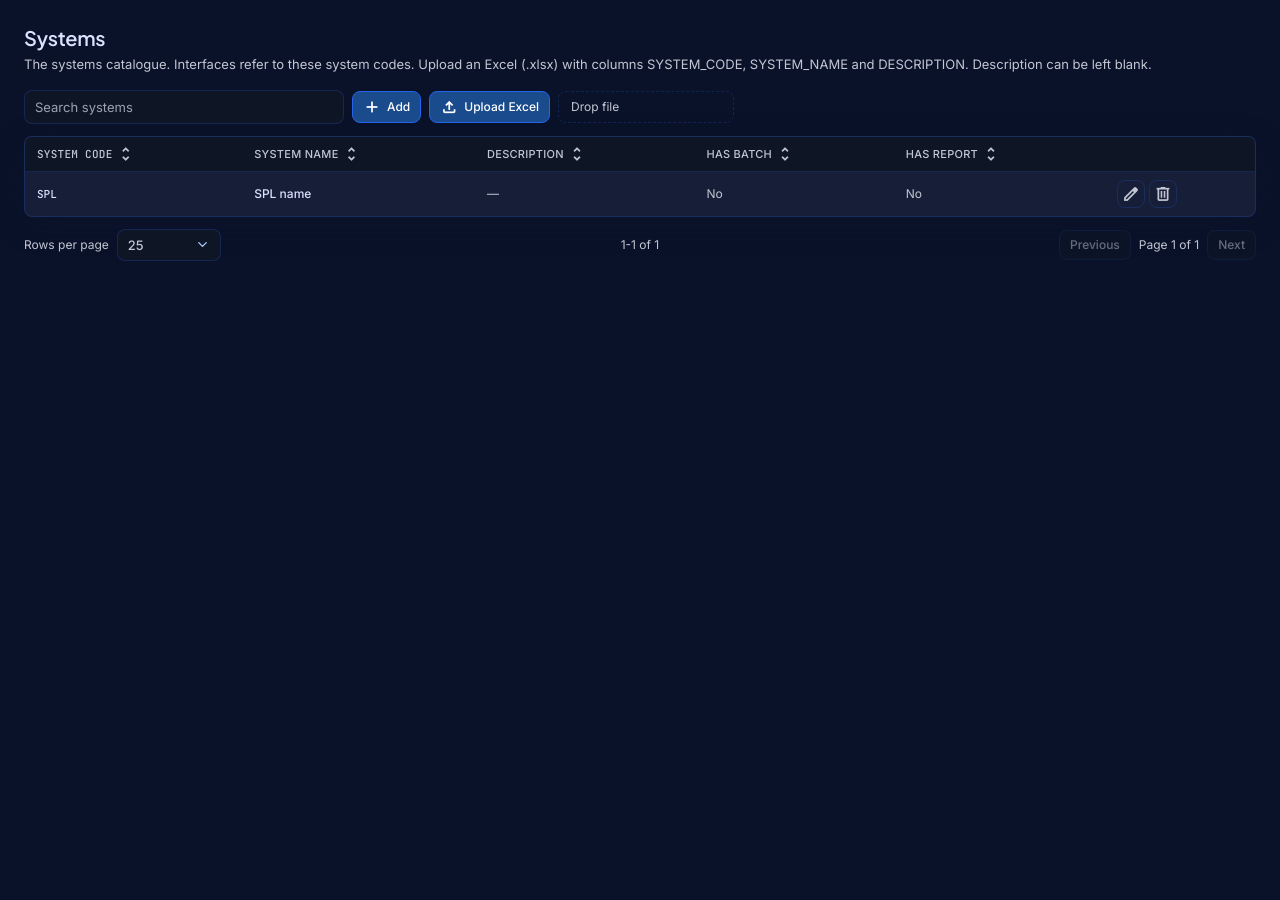
Scenario: edits a system without letting the code change
This screenshot has width=1280, height=900.
Check: the text "SPL name" is shown, box [242,172,475,216]
Click the button named "Edit SPL": click(1131, 194) [1117,180,1145,208]
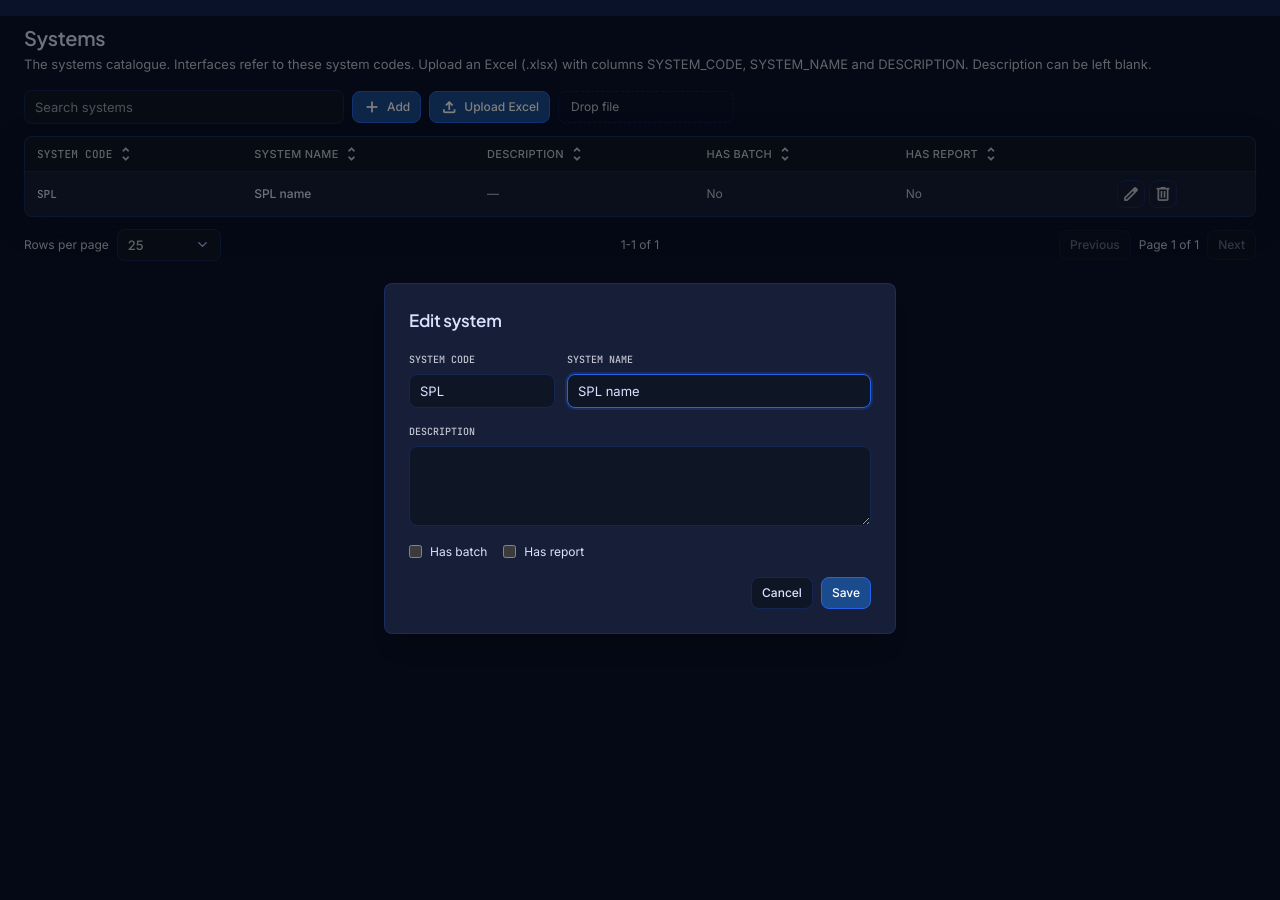
Replace the text in the field labelled "System name" with "Renamed": (719, 390) [567,374,871,408]
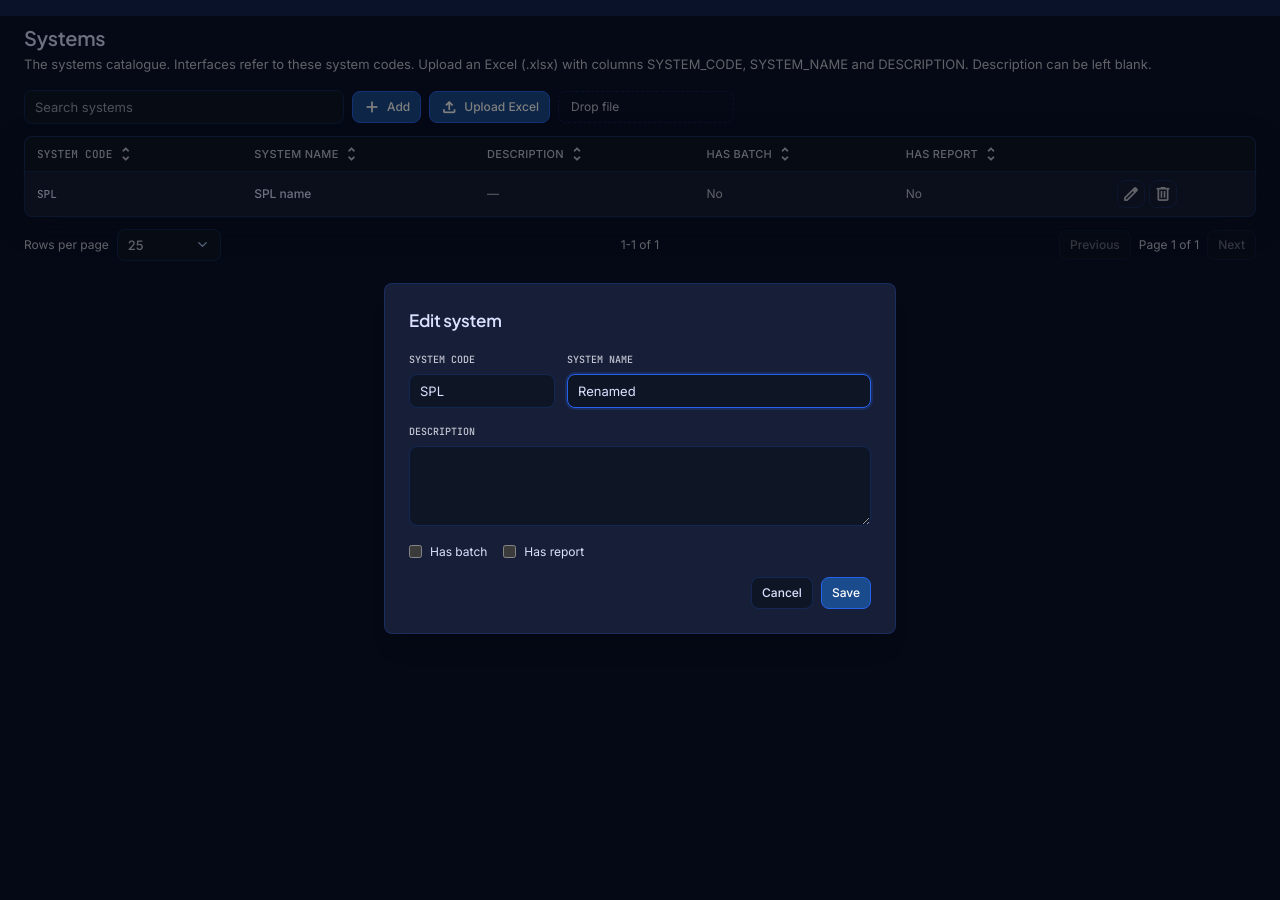
Click the button "Save": click(846, 592) [821,576,871,608]
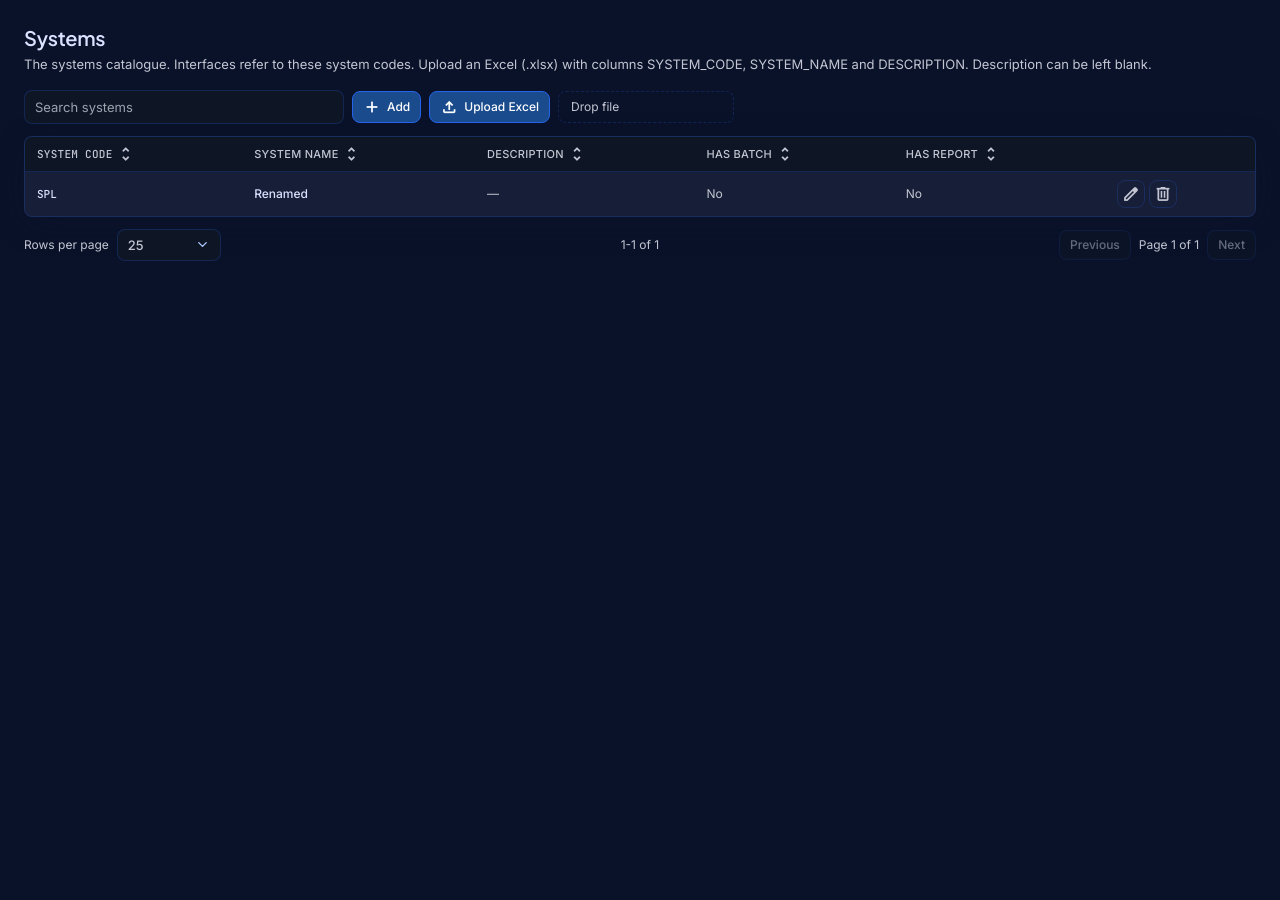
Check: the text "Renamed" is shown, box [242,172,475,216]
Check: the dialog is gone
